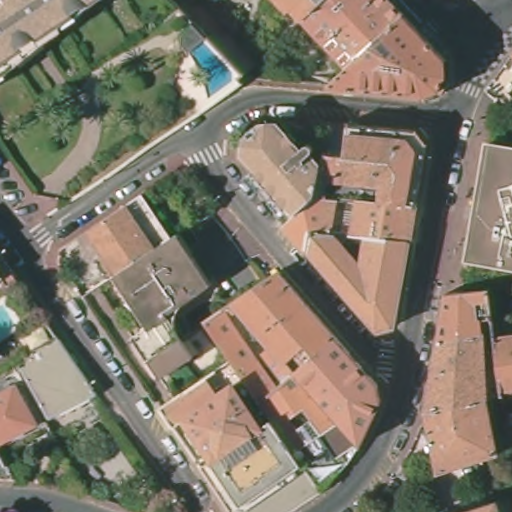pool: (187, 41, 234, 101), (1, 295, 19, 343)
